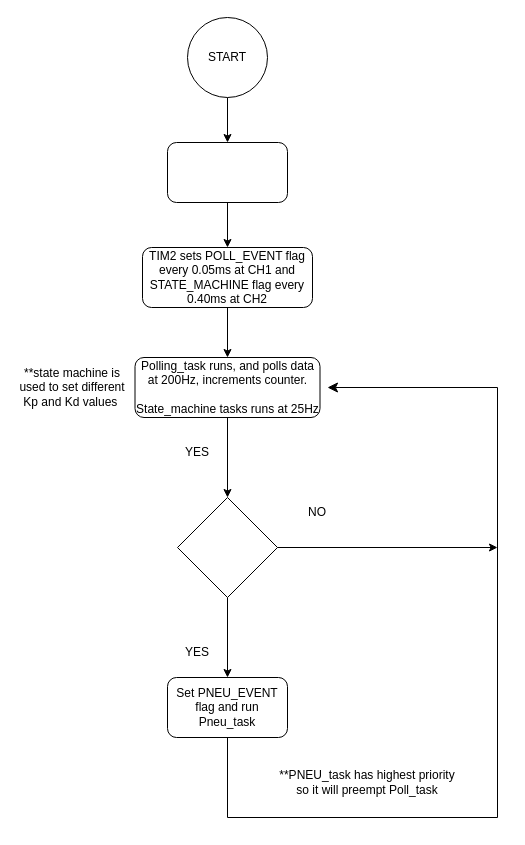
This 525x845 diagram has some shape labels left out. Here are the shapes that lost their labels. From the top down, the box of each, then its label:
(166, 142, 288, 202): UART RxBuffer INT, and sets starts TIM2
(176, 496, 278, 598): is state = JUMP_TAKEOFF
